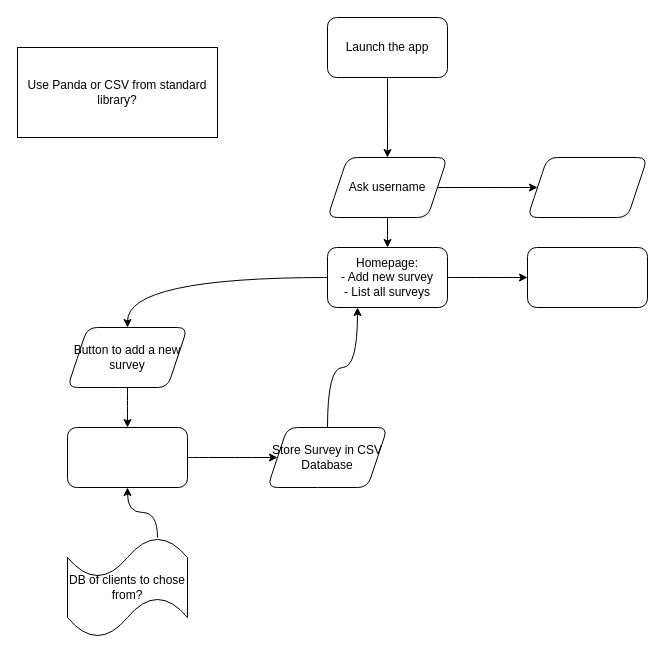
The diagram is 665 pixels wide and 655 high, and some of its shapes have lost their labels. The box of each missing label's shape, as (x1, y1, x2, y2) in pixels:
If already username in LocalStorage, ask if he is the right one: (526, 156, 648, 218)
List All surveys: (526, 246, 648, 308)
Survey page: (66, 426, 188, 488)
